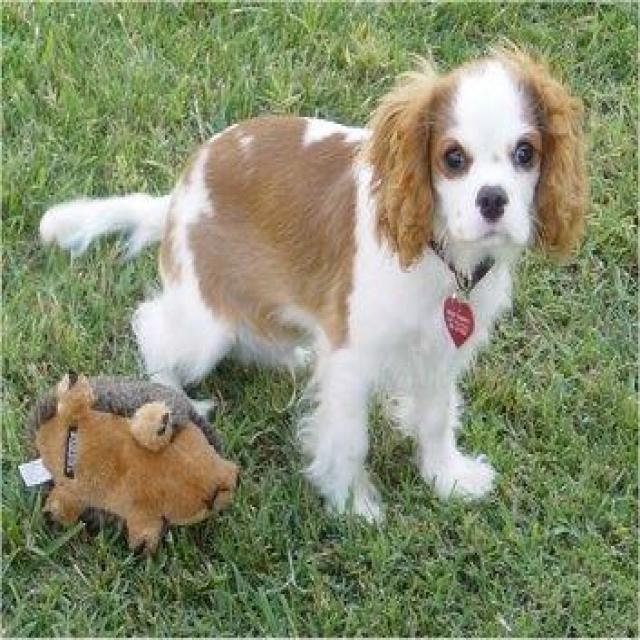blenheim_spaniel: (42, 44, 591, 539)
